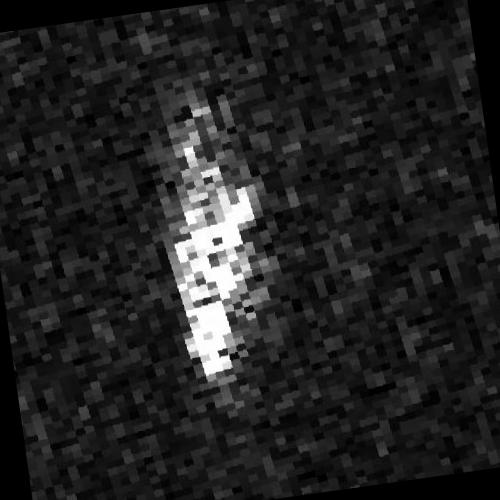ship: (170, 100, 258, 376)
